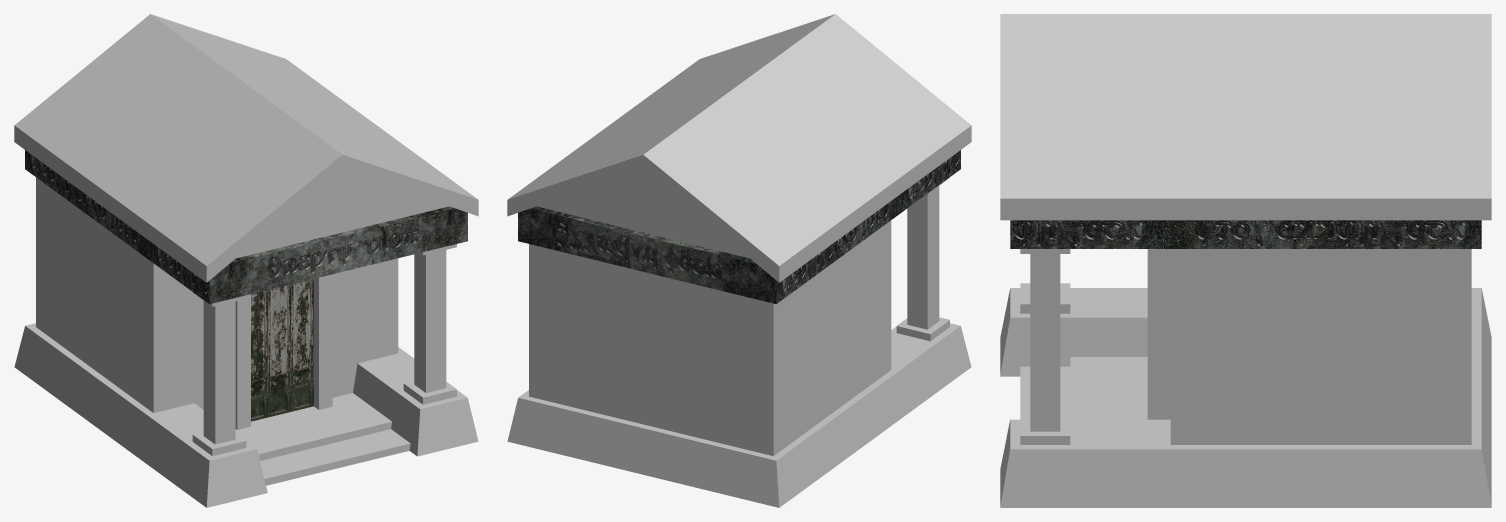
Rendered from TombA.fbx.
The picture shows the model from 3 angles, left to right: view 1: azimuth 30°, elevation 25°; view 2: azimuth 150°, elevation 25°; view 3: azimuth 270°, elevation 25°; orthographic projection. The views are drawn at different scales.
Visible parts, largest first — view 1: Roof, Main, Base, Top_Trim, Steps, Pillar_Mid, Door, Door_Frame, Pillar_Caps; view 2: Main, Roof, Base, Top_Trim, Pillar_Mid, Pillar_Caps; view 3: Roof, Main, Base, Top_Trim, Steps, Pillar_Mid, Door_Frame, Pillar_Caps.
Boxes of the visible parts, x1,y1,x2,y2 form: Roof: (14, 14, 478, 282); Main: (36, 169, 448, 412); Base: (14, 323, 478, 507); Top_Trim: (25, 150, 467, 304); Steps: (235, 393, 410, 485); Pillar_Mid: (203, 250, 446, 444); Door: (251, 279, 313, 421); Door_Frame: (235, 274, 332, 429); Pillar_Caps: (192, 244, 456, 456); Main: (529, 169, 891, 456); Roof: (507, 14, 971, 282); Base: (507, 323, 971, 507); Top_Trim: (518, 150, 960, 304); Pillar_Mid: (907, 186, 939, 329); Pillar_Caps: (896, 177, 949, 341); Roof: (1000, 14, 1491, 220); Main: (1170, 249, 1471, 444); Base: (1000, 288, 1491, 507); Top_Trim: (1010, 220, 1481, 248); Steps: (1020, 357, 1147, 419); Pillar_Mid: (1030, 254, 1060, 431); Door_Frame: (1147, 249, 1170, 419); Pillar_Caps: (1020, 249, 1070, 444).
Bounding box in the file's own units: 400 × 450 × 490.
